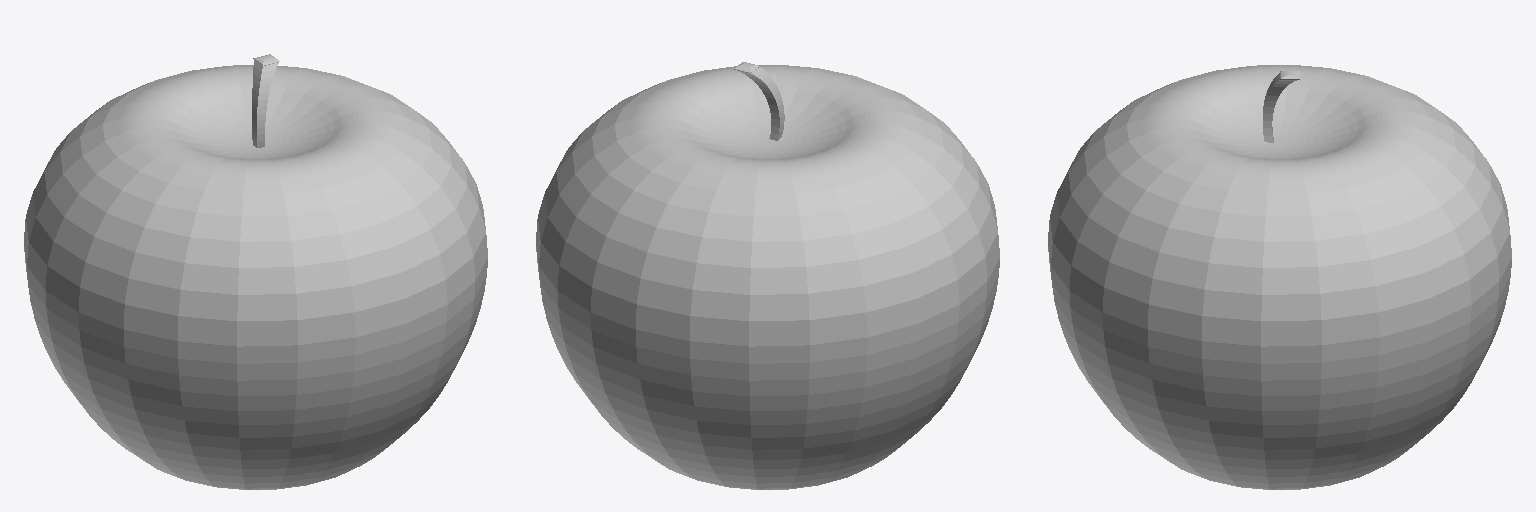
File: maça.obj
The picture shows the model from 3 angles: view 1: azimuth 30°, elevation 25°; view 2: azimuth 150°, elevation 25°; view 3: azimuth 270°, elevation 25°; orthographic projection.
Parts seen in each view (by area): view 1: Mesh1 Group2 Group1 Component_18_1 Model, Mesh4 Group3 Group1 Component_18_1 Model; view 2: Mesh1 Group2 Group1 Component_18_1 Model, Mesh4 Group3 Group1 Component_18_1 Model; view 3: Mesh1 Group2 Group1 Component_18_1 Model, Mesh4 Group3 Group1 Component_18_1 Model.
Boxes of the visible parts, x1=… form: Mesh1 Group2 Group1 Component_18_1 Model: x1=24, y1=65, x2=487, y2=489; Mesh4 Group3 Group1 Component_18_1 Model: x1=252, y1=54, x2=279, y2=147; Mesh1 Group2 Group1 Component_18_1 Model: x1=536, y1=65, x2=999, y2=489; Mesh4 Group3 Group1 Component_18_1 Model: x1=734, y1=62, x2=784, y2=140; Mesh1 Group2 Group1 Component_18_1 Model: x1=1048, y1=65, x2=1511, y2=489; Mesh4 Group3 Group1 Component_18_1 Model: x1=1263, y1=71, x2=1299, y2=142.
Size of the model in its own units: 0.5699 by 0.5157 by 0.5699.